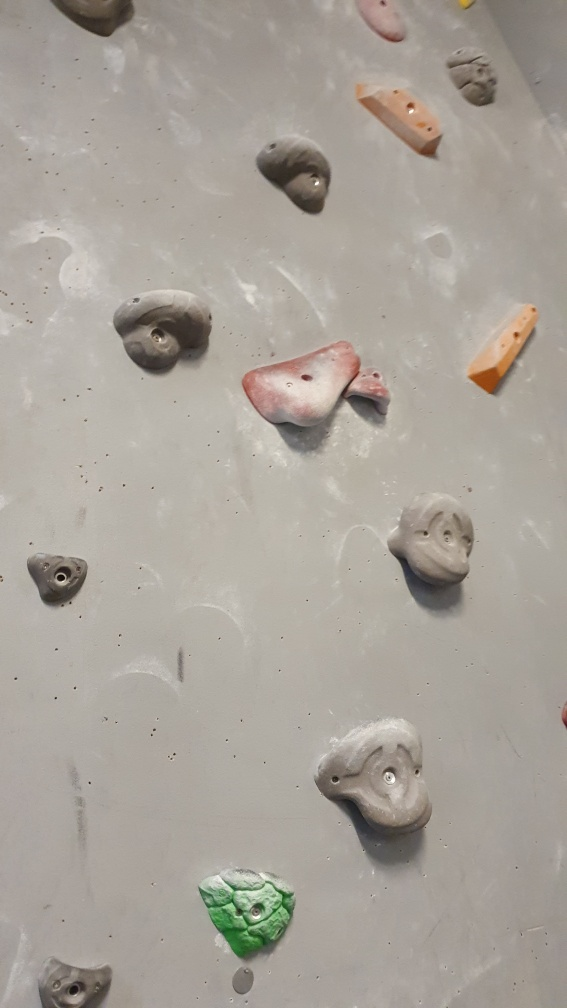Crimp: (21, 546, 92, 616)
Hand Start: (227, 962, 264, 997)
Jug: (313, 713, 436, 847), (110, 286, 215, 377), (384, 490, 476, 589), (254, 134, 336, 216)
Pinch: (464, 295, 544, 396), (354, 80, 444, 165)
